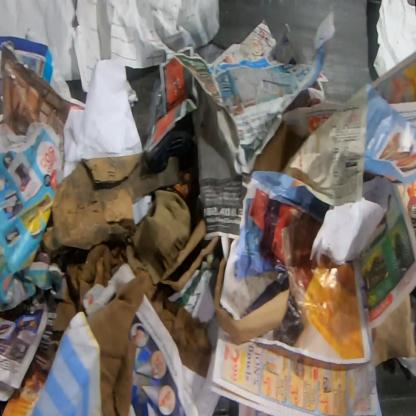cardboard: (42, 152, 179, 262), (134, 268, 213, 381), (86, 273, 146, 416), (213, 257, 291, 346), (52, 244, 128, 331), (125, 189, 192, 284), (160, 219, 220, 293), (254, 122, 309, 172)
soft_plastic: (144, 78, 164, 149)
